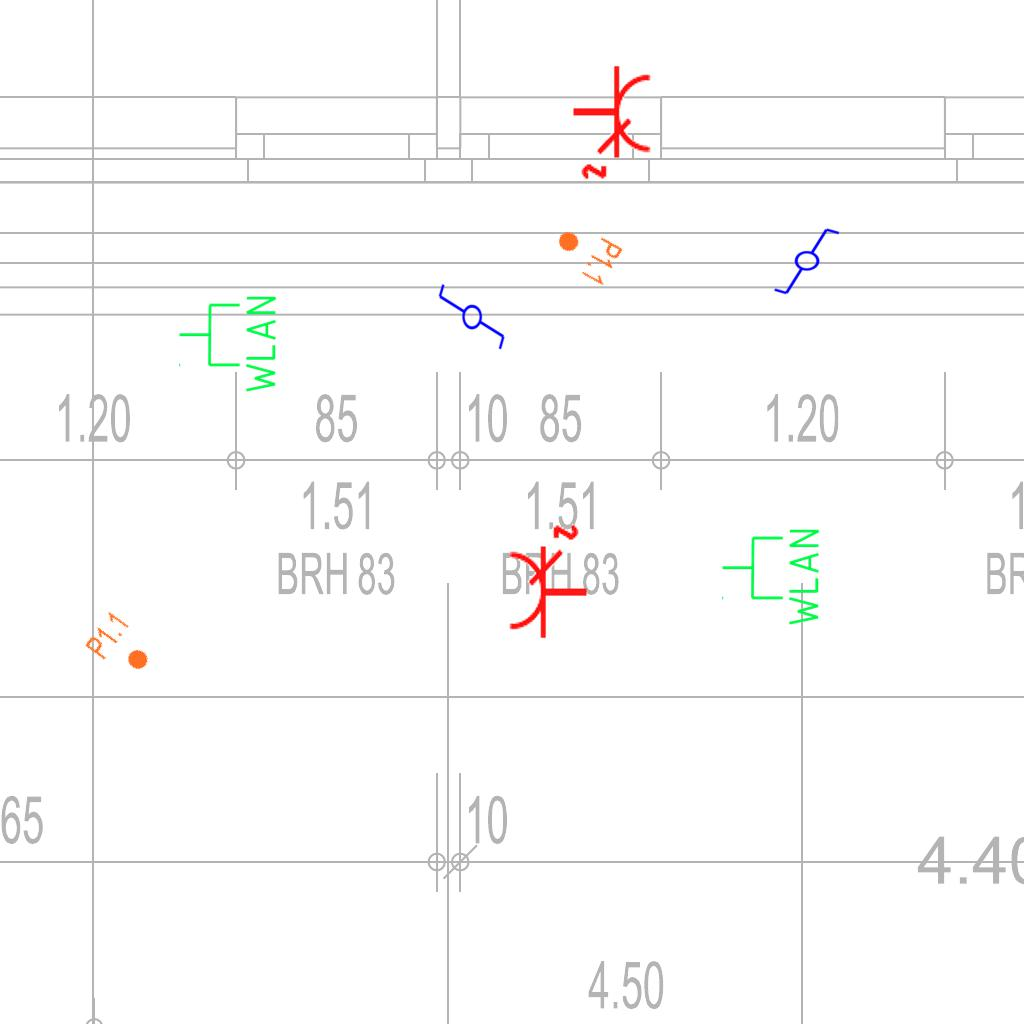Downlight_LED_Einbauleuchten_Flur_2: (82, 608, 162, 684), (546, 217, 626, 289)
Schukosteckdose_mehrfach: (567, 61, 655, 182), (505, 522, 593, 643)
WLAN: (719, 525, 823, 630), (176, 292, 280, 397)
Wechselschalter: (772, 226, 850, 298), (435, 282, 507, 360)
